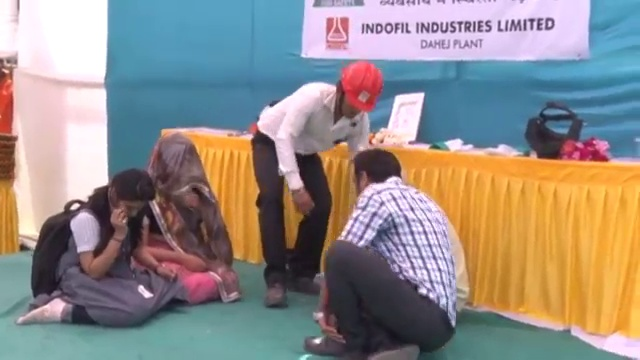helmet: (341, 63, 382, 113)
helmet_off: (146, 139, 205, 203), (98, 169, 156, 227), (346, 152, 408, 193)
helmet_on: (327, 62, 381, 122)
person: (252, 60, 384, 306), (307, 148, 459, 359), (21, 166, 185, 325), (132, 133, 240, 304)
